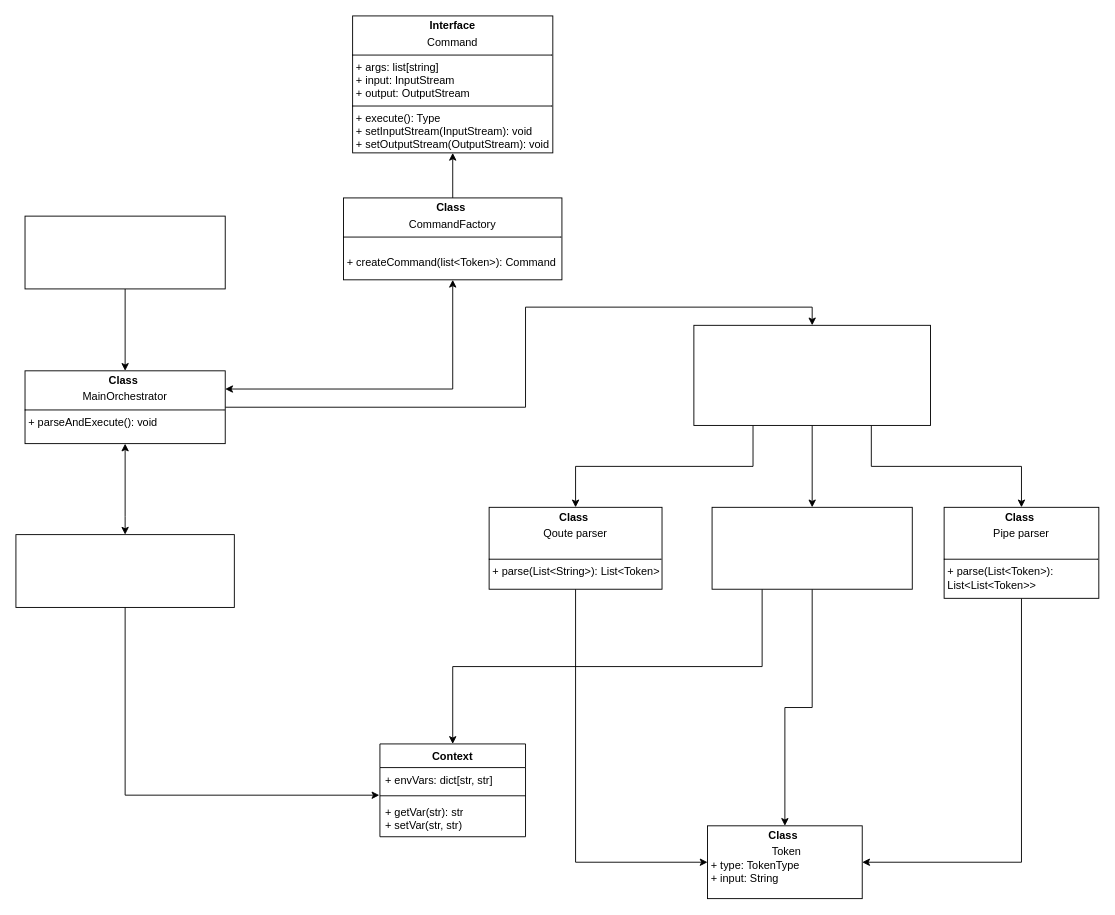
Some shapes in this 1115 by 915 pixel diagram are drawn without their labels. Here are the shapes that lost their labels. From the top down, the centre of each, then its label:
At (124,252): "Class REPL + main(): void".
At (811,374): "Class ParserO rchestrator + parse(String): List<List<Token>>".
At (811,547): "Class Substitutor + substitute(List<Token>): List<Token>".
At (124,570): "Class Executor + execute(List<Command>): int".
